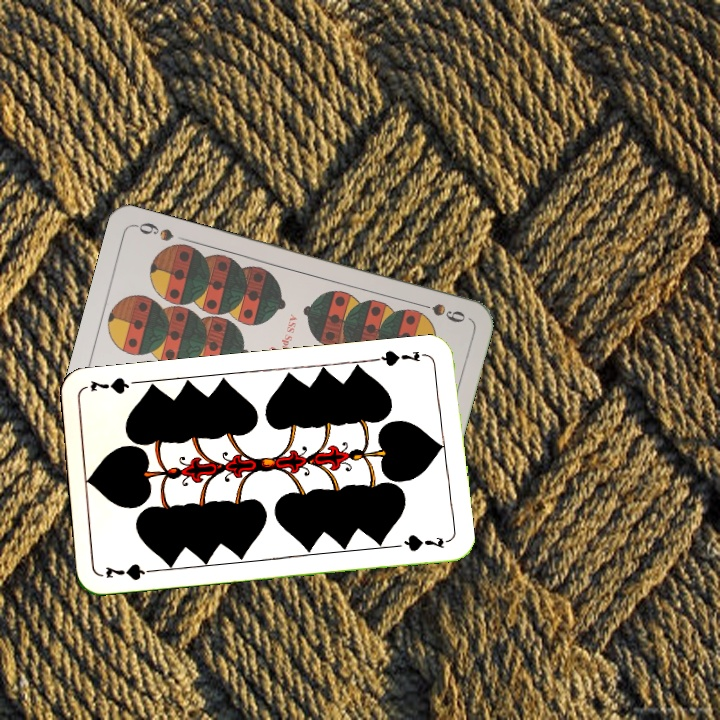G7: (101, 559, 160, 583), (372, 346, 431, 369)
S9: (411, 298, 468, 325)
